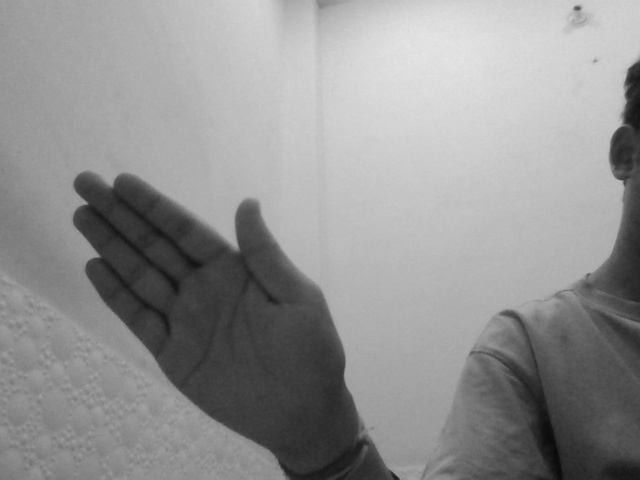Hello: (65, 167, 356, 454)
